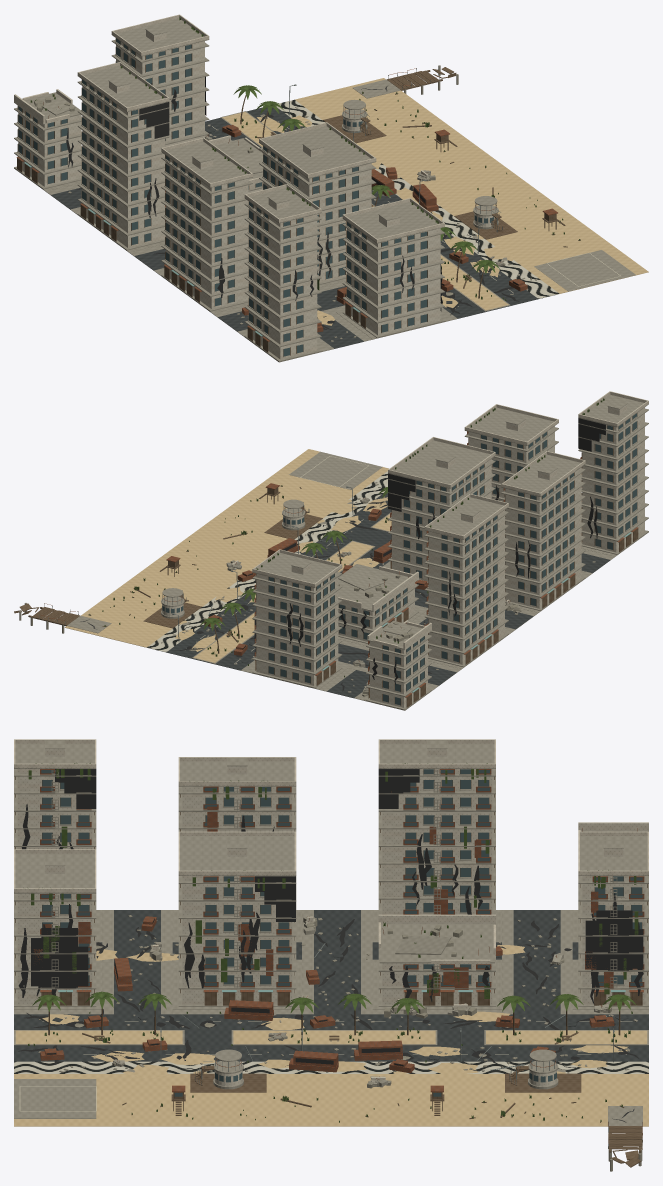
The model's file is rio-fase01.glb.
The picture shows the model from 3 angles, top to bottom: view 1: azimuth 30°, elevation 25°; view 2: azimuth 150°, elevation 25°; view 3: azimuth 270°, elevation 25°; orthographic projection. The views are drawn at different scales.
Parts seen in each view (by area): view 1: RIO_mapa_01_reboco, RIO_mapa_21_areia, RIO_mapa_01_concreto, RIO_mapa_02_reboco, RIO_mapa_02_concreto, RIO_mapa_00_reboco, RIO_mapa_02_vidro, RIO_mapa_00_concreto, RIO_mapa_01_vidro, RIO_mapa_11_asfalto, RIO_mapa_00_vidro, RIO_mapa_02_madeira (+17 smaller); view 2: RIO_mapa_01_reboco, RIO_mapa_01_concreto, RIO_mapa_21_areia, RIO_mapa_00_reboco, RIO_mapa_02_reboco, RIO_mapa_00_concreto, RIO_mapa_02_concreto, RIO_mapa_00_vidro, RIO_mapa_11_asfalto, RIO_mapa_01_vidro, RIO_mapa_11_ondas, RIO_mapa_02_vidro (+17 smaller); view 3: RIO_mapa_01_concreto, RIO_mapa_21_areia, RIO_mapa_01_reboco, RIO_mapa_11_asfalto, RIO_mapa_02_concreto, RIO_mapa_11_fenda, RIO_mapa_00_concreto, RIO_mapa_02_reboco, RIO_mapa_11_ondas, RIO_mapa_01_asfalto, RIO_mapa_00_asfalto, RIO_mapa_11_ferrugem (+35 smaller).
Part boxes in pixels (<box>): RIO_mapa_01_reboco: <box>77,62,371,308</box>; RIO_mapa_21_areia: <box>295,78,648,293</box>; RIO_mapa_01_concreto: <box>14,65,448,362</box>; RIO_mapa_02_reboco: <box>211,158,443,359</box>; RIO_mapa_02_concreto: <box>194,171,448,361</box>; RIO_mapa_00_reboco: <box>14,14,230,186</box>; RIO_mapa_02_vidro: <box>196,168,414,356</box>; RIO_mapa_00_concreto: <box>14,18,209,213</box>; RIO_mapa_01_vidro: <box>105,96,290,278</box>; RIO_mapa_11_asfalto: <box>205,107,537,318</box>; RIO_mapa_00_vidro: <box>18,38,178,212</box>; RIO_mapa_02_madeira: <box>192,166,420,356</box>; RIO_mapa_01_reboco: <box>338,451,585,664</box>; RIO_mapa_01_concreto: <box>249,440,648,710</box>; RIO_mapa_21_areia: <box>65,449,388,647</box>; RIO_mapa_00_reboco: <box>253,526,462,707</box>; RIO_mapa_02_reboco: <box>433,391,648,552</box>; RIO_mapa_00_concreto: <box>248,529,484,710</box>; RIO_mapa_02_concreto: <box>464,394,648,576</box>; RIO_mapa_00_vidro: <box>280,526,483,705</box>; RIO_mapa_11_asfalto: <box>166,493,391,670</box>; RIO_mapa_01_vidro: <box>396,469,566,632</box>; RIO_mapa_11_ondas: <box>147,471,387,652</box>; RIO_mapa_02_vidro: <box>479,413,636,570</box>; RIO_mapa_01_concreto: <box>96,740,578,1014</box>; RIO_mapa_21_areia: <box>14,1074,648,1126</box>; RIO_mapa_01_reboco: <box>178,739,495,1004</box>; RIO_mapa_11_asfalto: <box>14,1014,648,1061</box>; RIO_mapa_02_concreto: <box>14,740,218,1014</box>; RIO_mapa_11_fenda: <box>18,804,643,1122</box>; RIO_mapa_00_concreto: <box>439,770,648,1014</box>; RIO_mapa_02_reboco: <box>14,739,179,1004</box>; RIO_mapa_11_ondas: <box>14,1061,648,1073</box>; RIO_mapa_01_asfalto: <box>100,910,578,1014</box>; RIO_mapa_00_asfalto: <box>513,910,560,1014</box>; RIO_mapa_11_ferrugem: <box>224,876,440,1073</box>.
Bounding box in the file's own units: 102 × 35.25 × 108.
14 materials, 9 textured.
